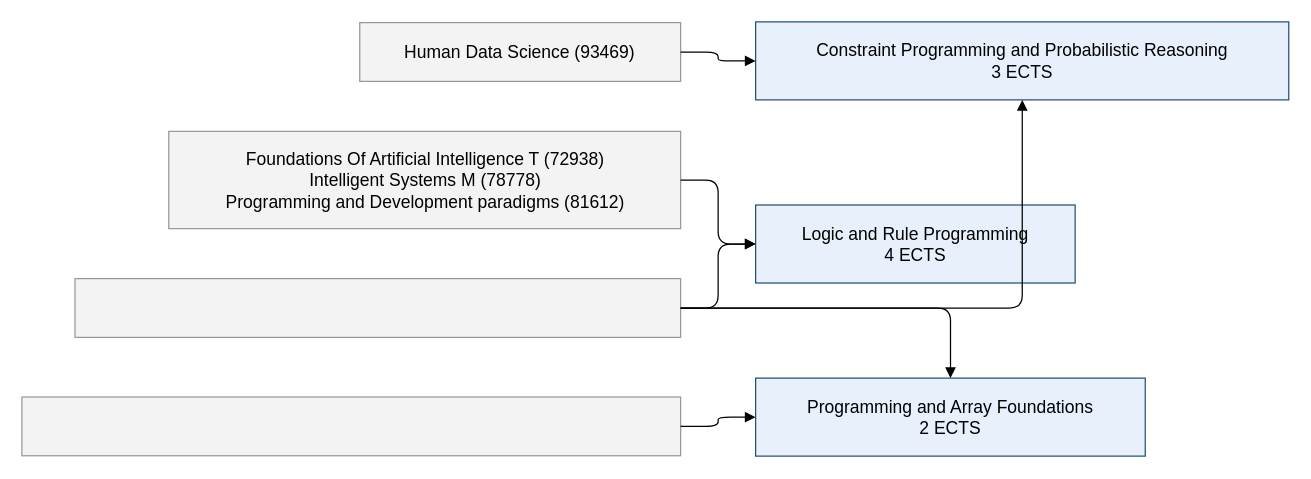
This 1311x479 diagram has some shape labels left out. The shapes that lost their labels are listed below. From the top down, each one's centre as x and y in pixels, then its label:
the point at 377,307: Introduction to Languages for Artificial Intelligence (B5727)
the point at 351,426: Language, Technology, Research I: Computational Thinking (B2696)
